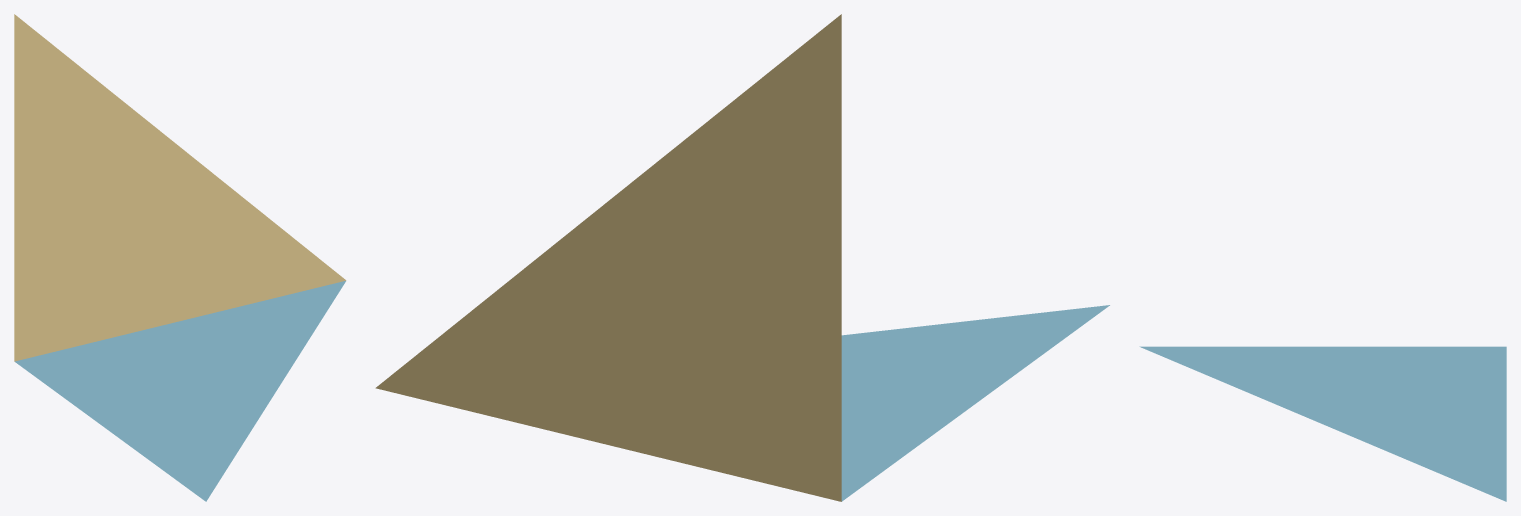
File: item.glb
3 renders of one model, left to right at view 1: azimuth 30°, elevation 25°; view 2: azimuth 150°, elevation 25°; view 3: azimuth 270°, elevation 25°, orthographic. The views are drawn at different scales.
Visible parts, largest first — view 1: Triangle mesh; view 2: Triangle mesh; view 3: Triangle mesh.
Boxes of the visible parts, box(x1,y1,x2,y2) form: Triangle mesh: box(14, 14, 346, 501); Triangle mesh: box(375, 14, 1109, 501); Triangle mesh: box(1139, 346, 1506, 501).
Bounding box in the file's own units: 0.25 × 0.25 × 0.25.
Materials: 2 (2 with a texture image).
